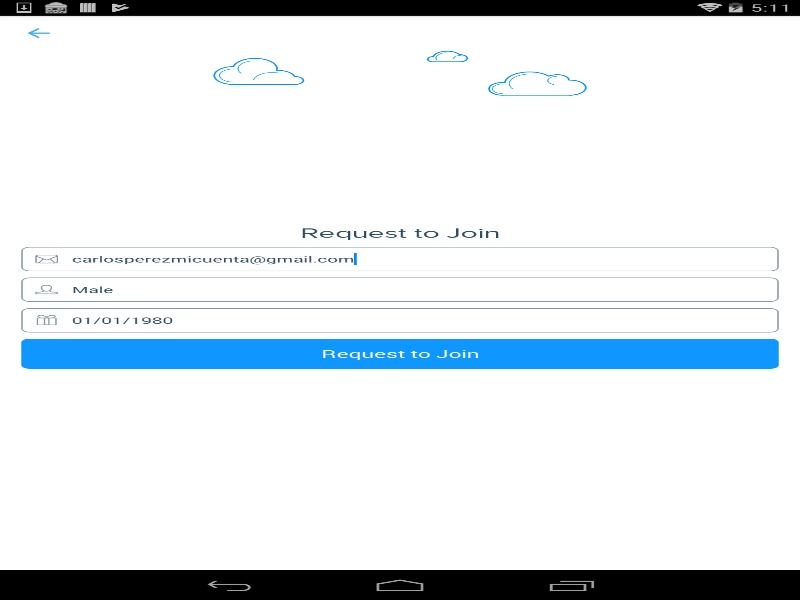Button: (21, 338, 778, 368), (0, 15, 77, 50)
Input: (21, 246, 778, 271)
